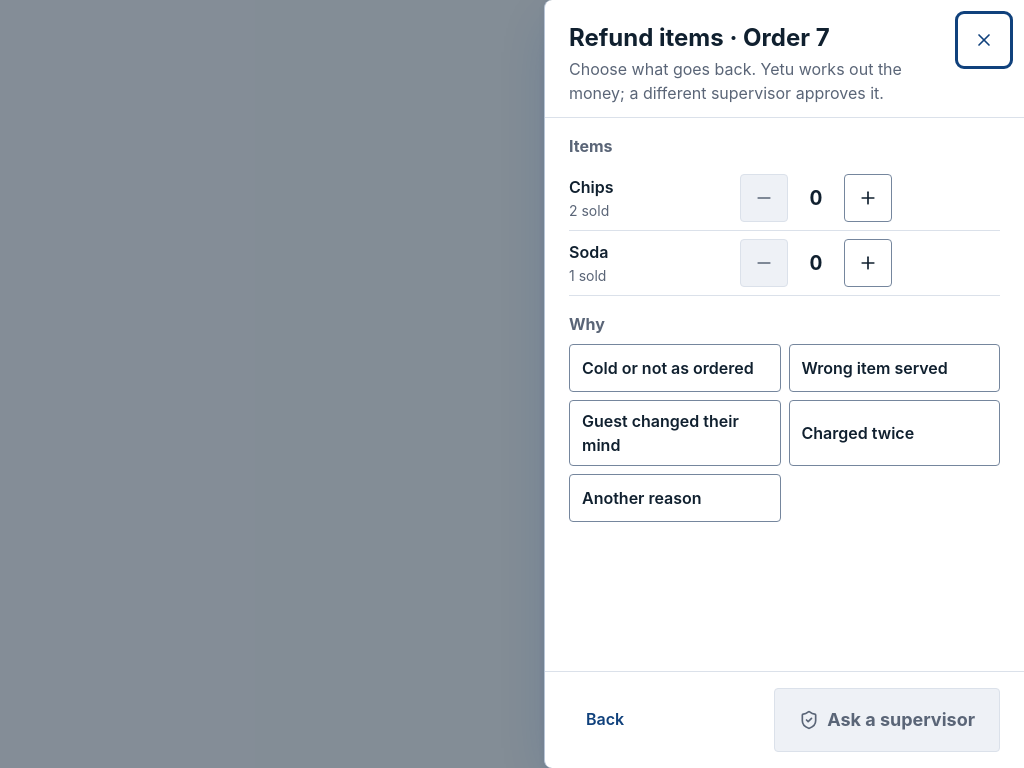
Test case: Refund items: choosing what goes back › needs an item, a reason and Yetu's figures before asking a supervisor
The width and height of the screenshot is (1024, 768).
Check: the button with test id "refund-ask" is disabled, box x1=774 y1=688 x2=1000 y2=752
Click the button named "One more Chips": (868, 198) x1=844 y1=174 x2=892 y2=222
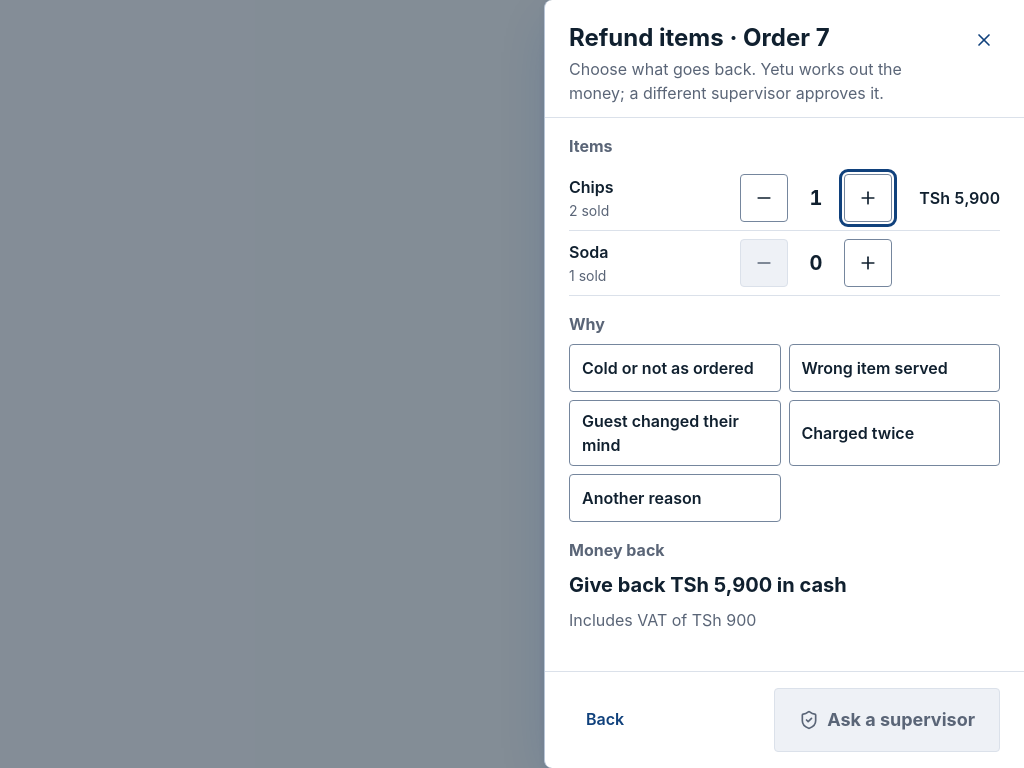
Check: the button with test id "refund-ask" is disabled, box x1=774 y1=688 x2=1000 y2=752
Click the radio button with test id "refund-reason-0": (675, 368) x1=569 y1=344 x2=780 y2=392
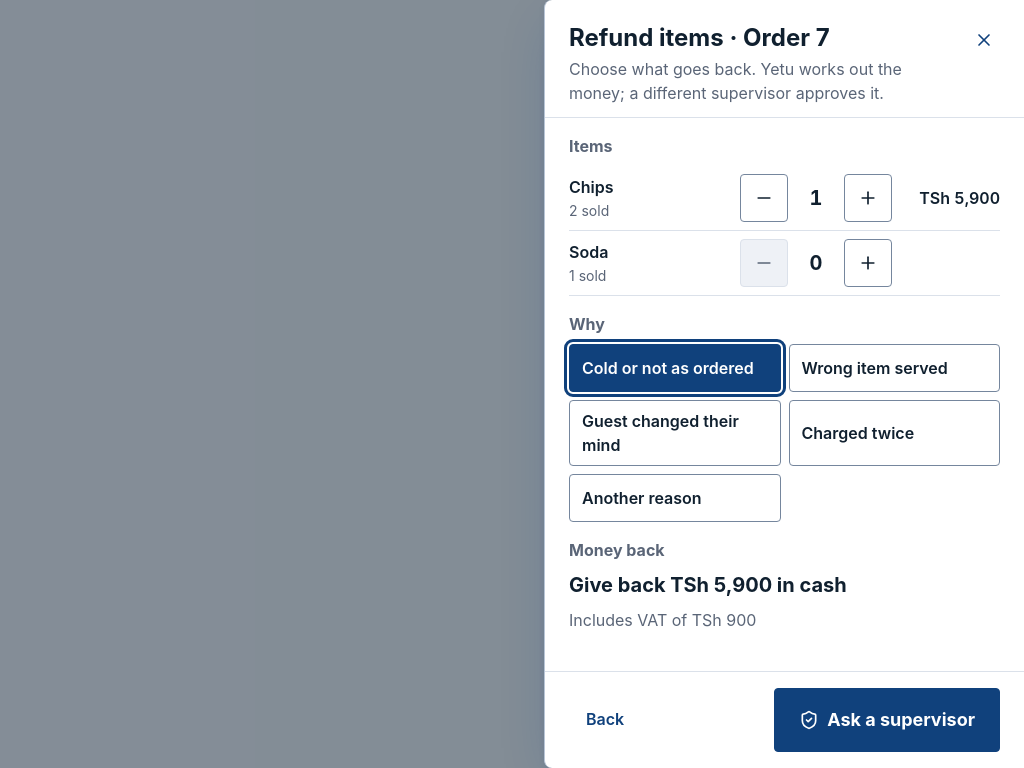
Check: the button with test id "refund-ask" is enabled, box x1=774 y1=688 x2=1000 y2=752
